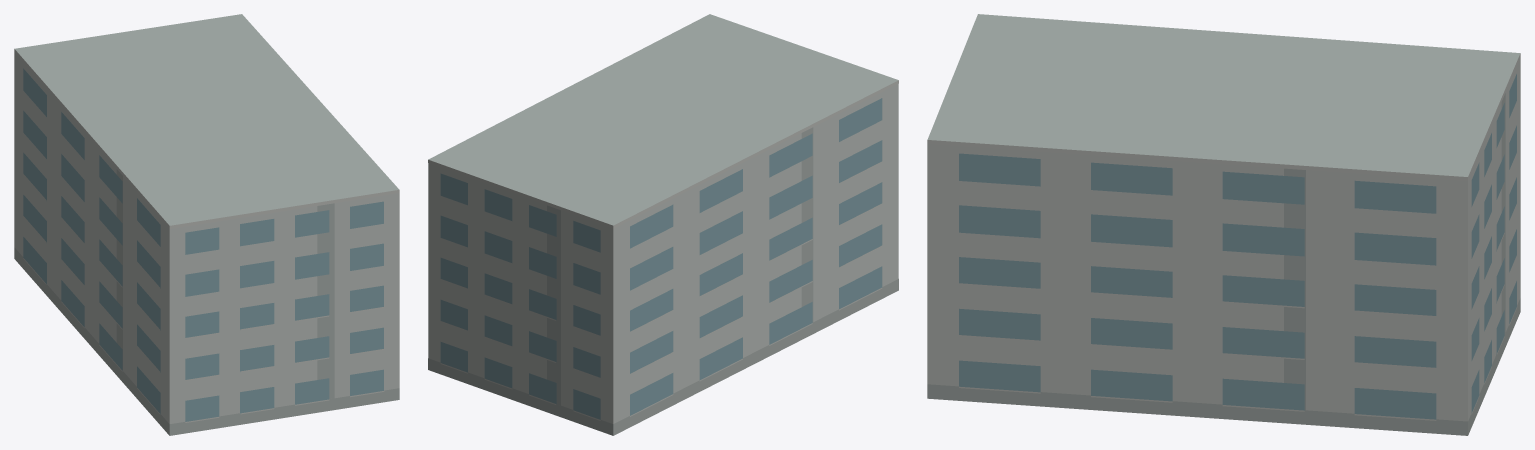
File: survey-upis-32974147.glb
The picture shows the model from 3 angles, left to right: view 1: azimuth 30°, elevation 25°; view 2: azimuth 150°, elevation 25°; view 3: azimuth 270°, elevation 25°; orthographic projection. The views are drawn at different scales.
Parts seen in each view (by area): view 1: survey-upis-32974147.tmp; view 2: survey-upis-32974147.tmp; view 3: survey-upis-32974147.tmp.
Part boxes in pixels (bbox=[...]): survey-upis-32974147.tmp: bbox=[14, 14, 399, 435]; survey-upis-32974147.tmp: bbox=[428, 14, 898, 435]; survey-upis-32974147.tmp: bbox=[927, 14, 1520, 435].
Size of the model in its own units: 20.62 by 15.25 by 31.68.
